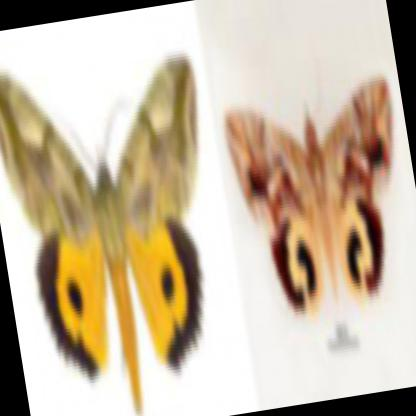fruit sucking moth: (0, 51, 204, 416), (222, 79, 390, 313)
